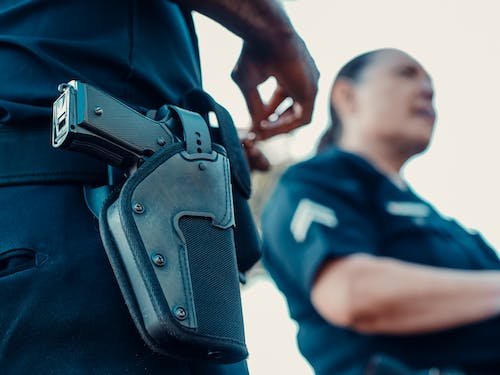gun: (51, 78, 252, 368)
